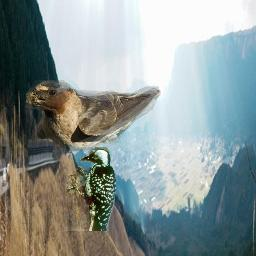Swallow: (26, 80, 161, 153)
Woodpecker: (66, 147, 116, 231)
